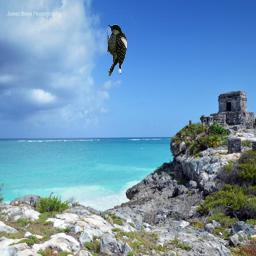Woodpecker: (107, 24, 127, 76)
